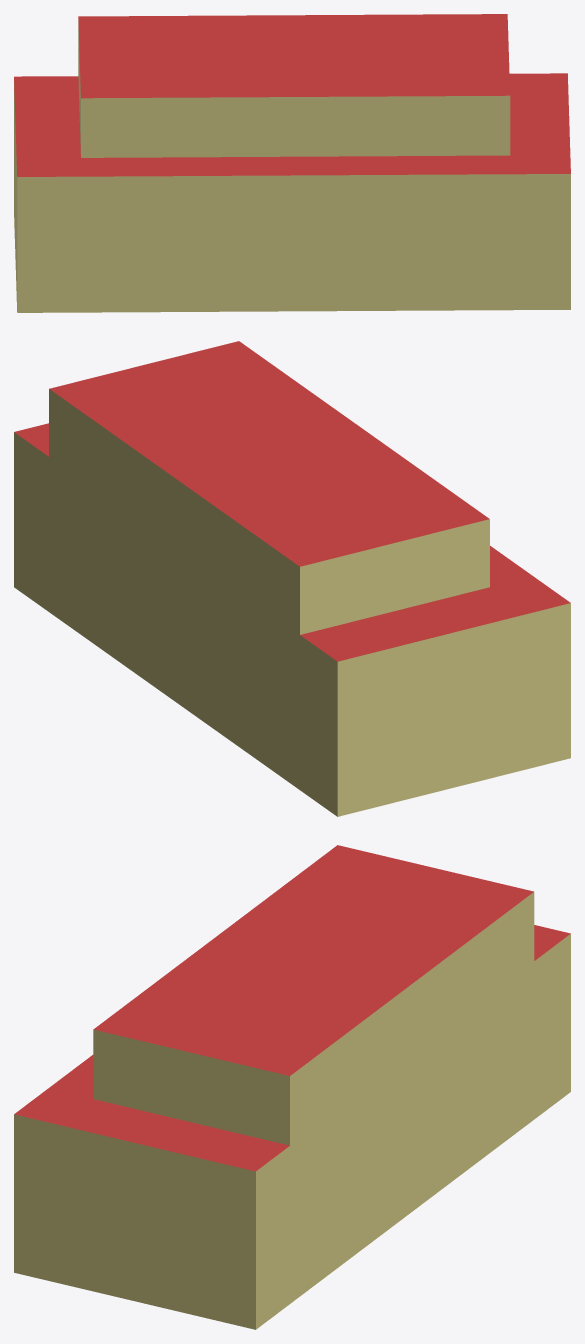
The picture shows the model from 3 angles, top to bottom: view 1: azimuth 30°, elevation 25°; view 2: azimuth 150°, elevation 25°; view 3: azimuth 270°, elevation 25°; orthographic projection. The views are drawn at different scales.
Bounding box in the file's own units: 27.16 × 21.66 × 9.78.
